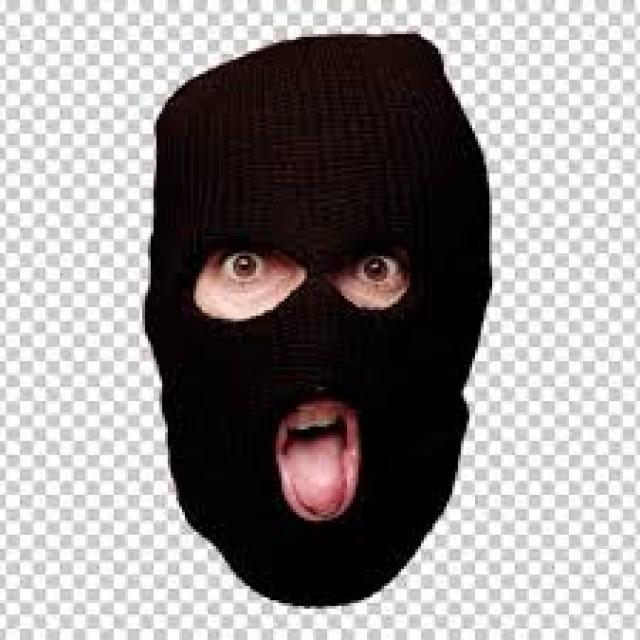6_pasamontana: (143, 29, 492, 608)
